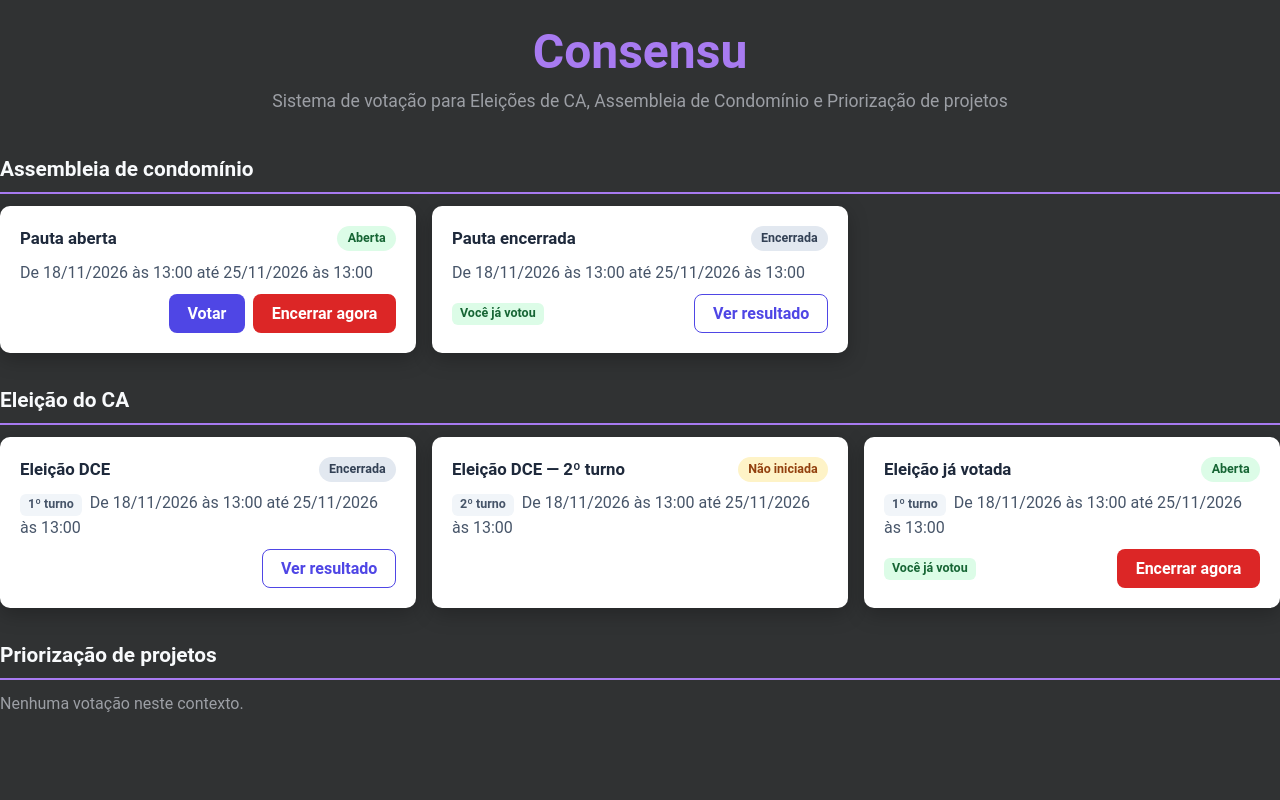
Test case: Home (painel) › cancelar o diálogo não encerra a votação
This screenshot has width=1280, height=800.
Check: the element "Eleição do CA" is shown, box top-left (0, 385), bottom-right (1279, 608)
Step 1. Click the button "Encerrar agora" next to "Votar" → (324, 314), box top-left (253, 294), bottom-right (396, 333)
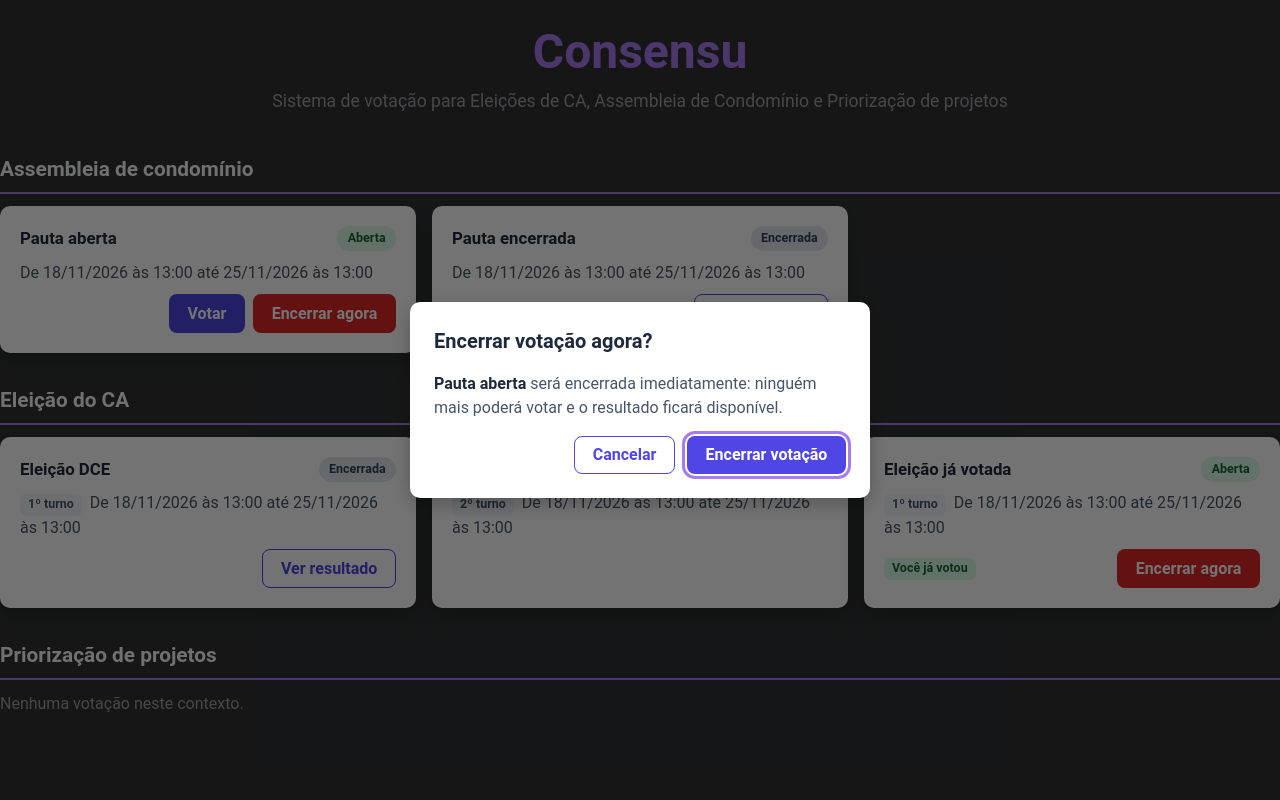
Step 2. Click the button "Cancelar" → (625, 455), box top-left (574, 436), bottom-right (675, 474)
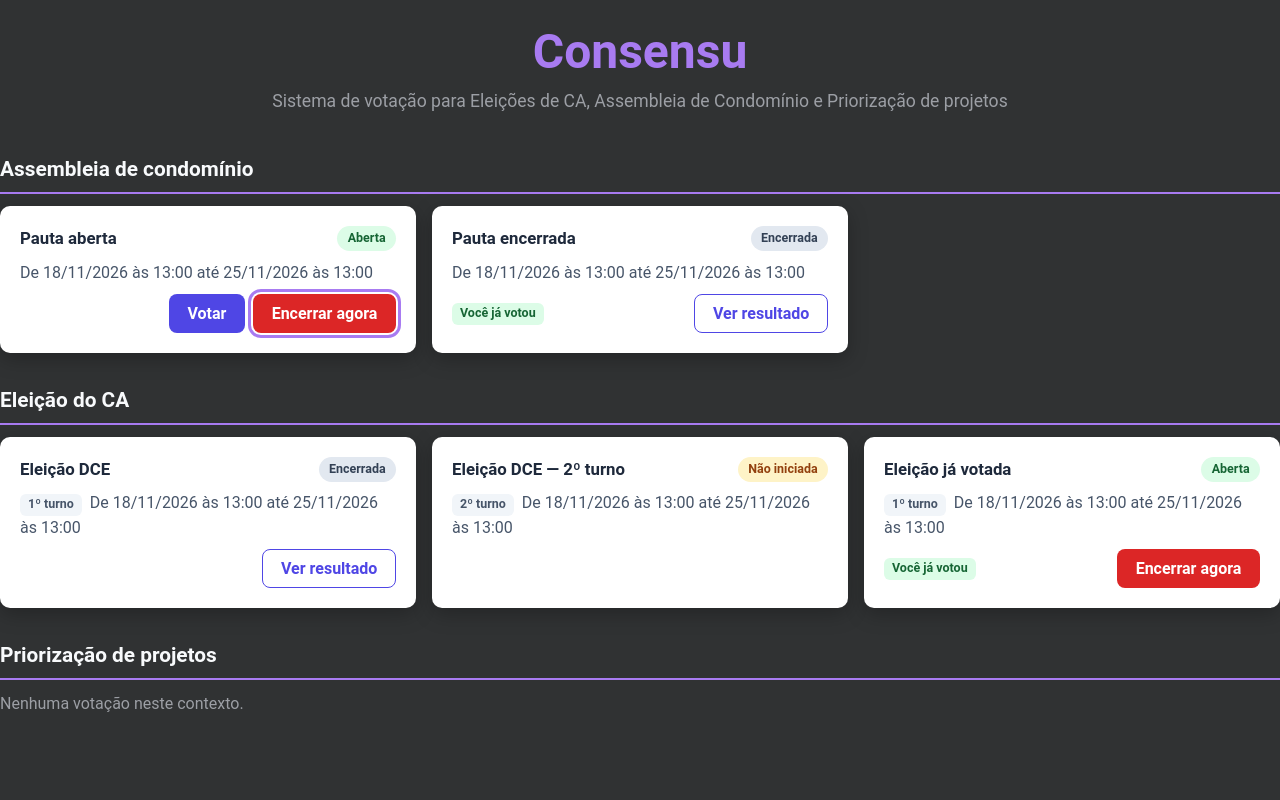
Check: the dialog is gone
